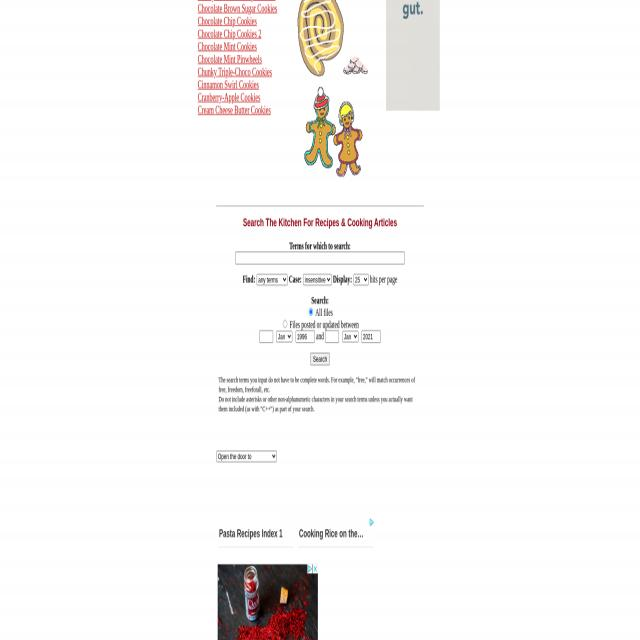button: (296, 0, 373, 201), (217, 563, 317, 640), (310, 352, 330, 365), (368, 517, 374, 528), (307, 564, 313, 573), (313, 564, 318, 574)
field: (235, 252, 405, 264), (216, 451, 277, 462), (256, 274, 288, 285), (303, 274, 331, 285), (362, 330, 381, 342), (296, 330, 314, 342), (276, 330, 292, 342), (342, 330, 358, 342), (259, 330, 273, 342), (325, 330, 339, 342), (354, 274, 368, 285), (309, 308, 313, 316), (283, 320, 287, 328)
